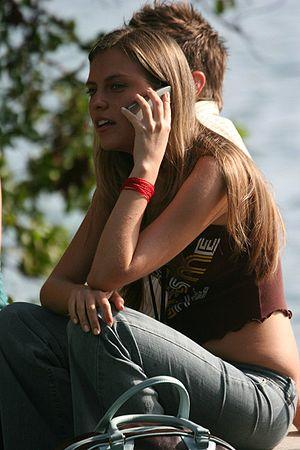person: (40, 26, 299, 450)
